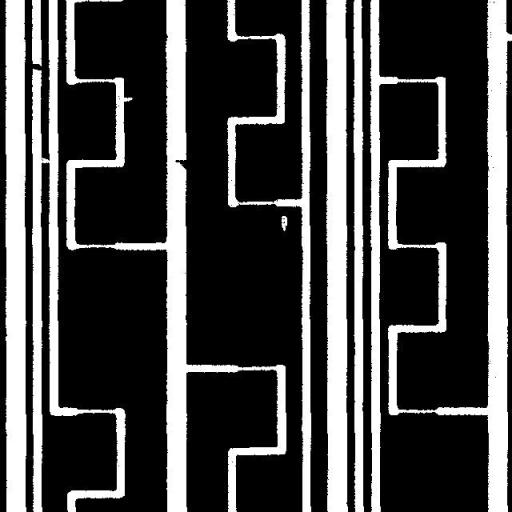mousebite: (114, 90, 140, 108)
open: (32, 150, 58, 170)
pin-hole: (274, 208, 294, 238)
short: (21, 56, 51, 78)
spur: (168, 152, 198, 179)
